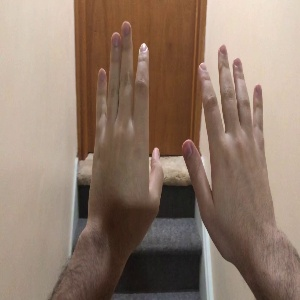hand: (182, 45, 276, 233), (88, 21, 163, 228)
